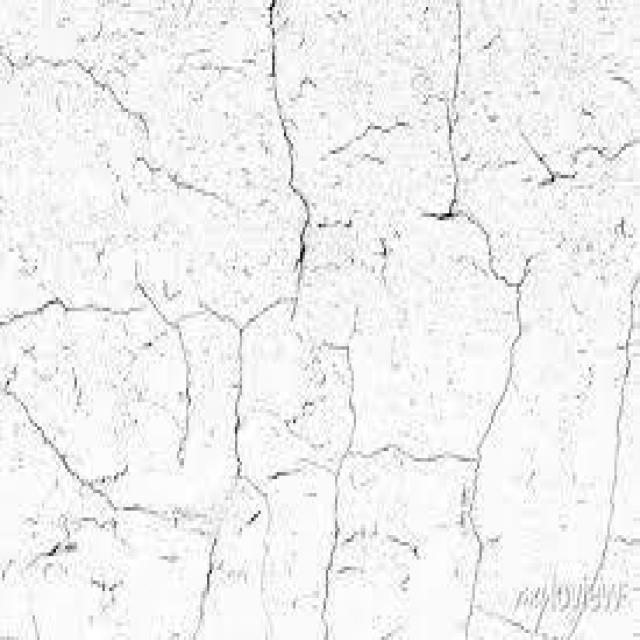Crack: (373, 35, 552, 392), (61, 260, 328, 450), (250, 0, 329, 294)
